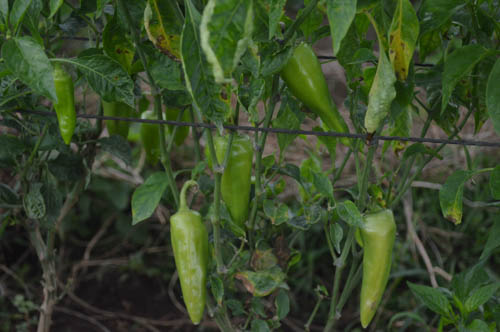ChiliPepper: (283, 46, 346, 135), (351, 212, 395, 325), (168, 210, 210, 326), (218, 137, 253, 223), (46, 73, 80, 144), (103, 100, 131, 139), (165, 105, 190, 145), (140, 114, 160, 158)
